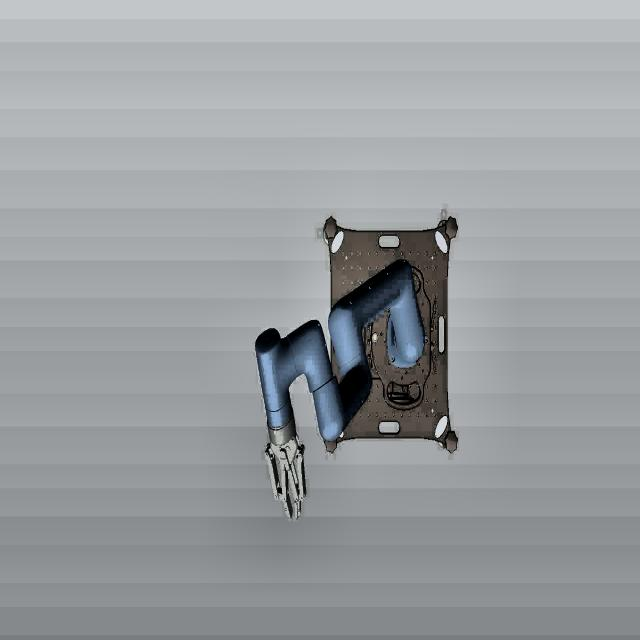robot: (256, 242, 430, 522)
